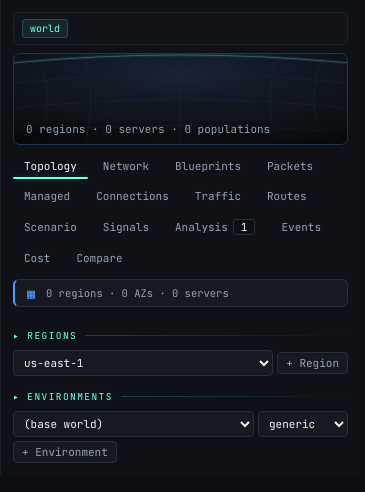
Test: WorldPanel findings tab › shows the stateful-without-volume finding for a stateful blueprint with no volume
Step 1. Click the button "Analysis 1" → click(215, 227), box [164,213,266,241]
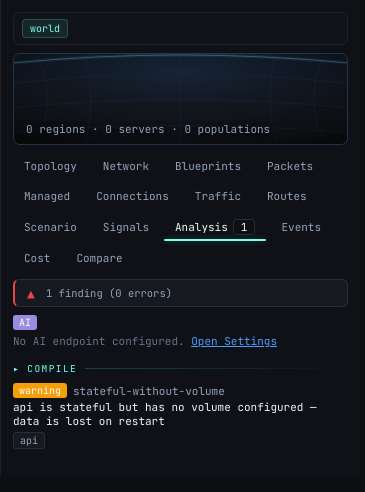
Check: the text "is stateful but has no volume configured" is shown, box [13,400,317,428]
